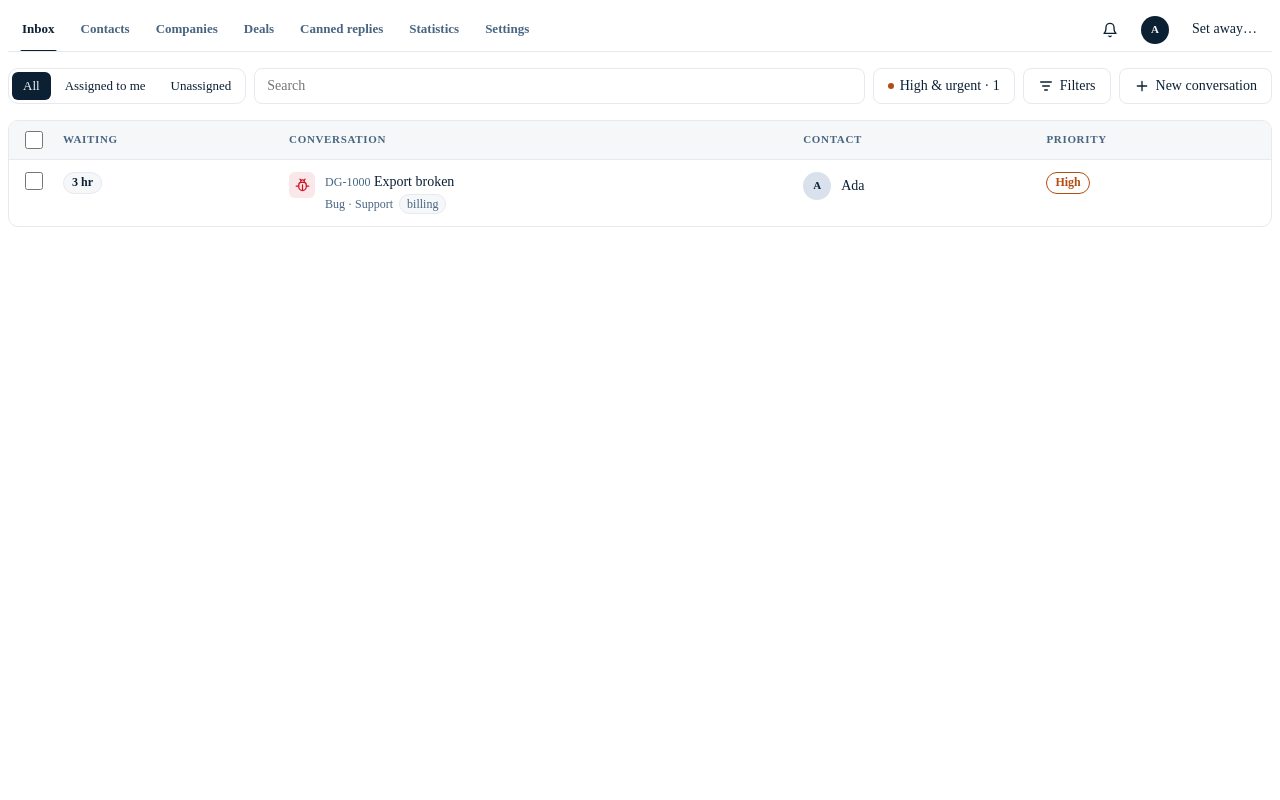
Test: HelpdeskAdmin › lists waiting conversations and opens one as a deep link
Check: the text "3 hr" is shown, box 63,172 -> 102,194
Click the link "DG-1000 Export broken" at (390, 182), box 325,172 -> 454,192
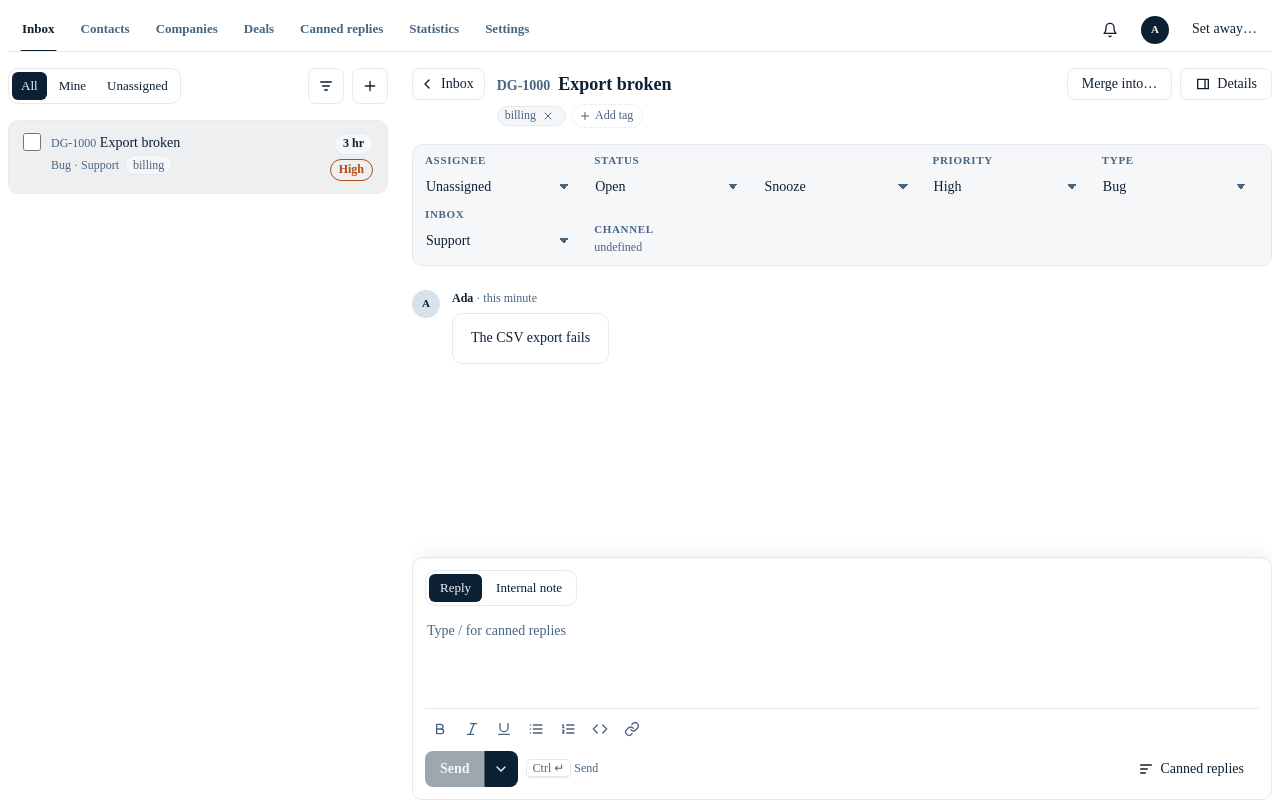
Check: the text "The CSV export fails" is shown, box 471,328 -> 590,349
